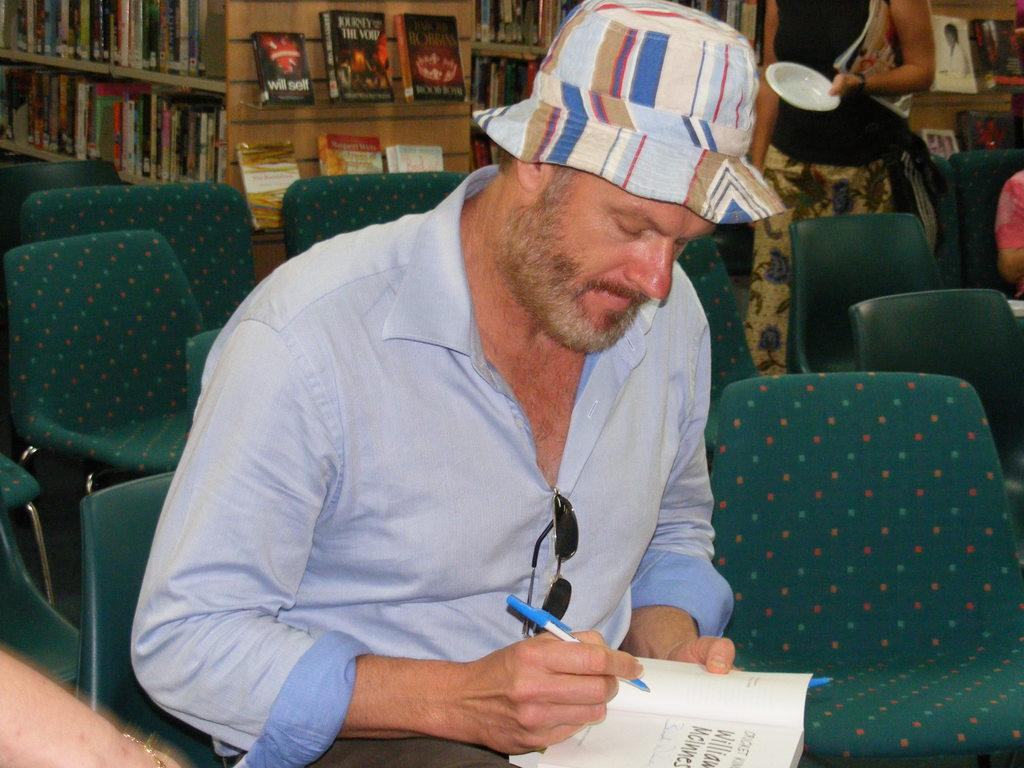Hat: (470, 0, 780, 225)
